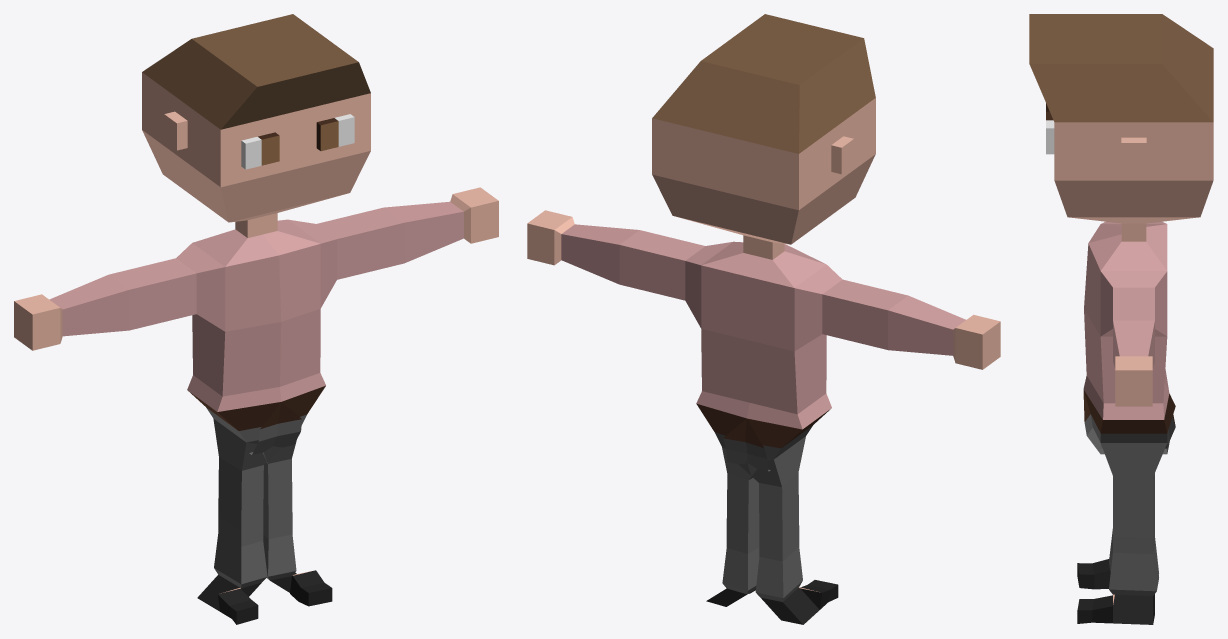
The model's file is pedestrianBrownPink.gltf.
The picture shows the model from 3 angles, left to right: view 1: azimuth 30°, elevation 25°; view 2: azimuth 150°, elevation 25°; view 3: azimuth 270°, elevation 25°; orthographic projection. The views are drawn at different scales.
Parts seen in each view (by area): view 1: pedestrian brown brown eyes.002; view 2: pedestrian brown brown eyes.002; view 3: pedestrian brown brown eyes.002.
Part boxes in pixels (x1,y1,x2,y2): pedestrian brown brown eyes.002: [14, 14, 498, 624]; pedestrian brown brown eyes.002: [527, 14, 1000, 624]; pedestrian brown brown eyes.002: [1029, 14, 1213, 624].
Bounding box in the file's own units: 1.29 × 1.47 × 0.437.
Materials: 1 (1 with a texture image).
